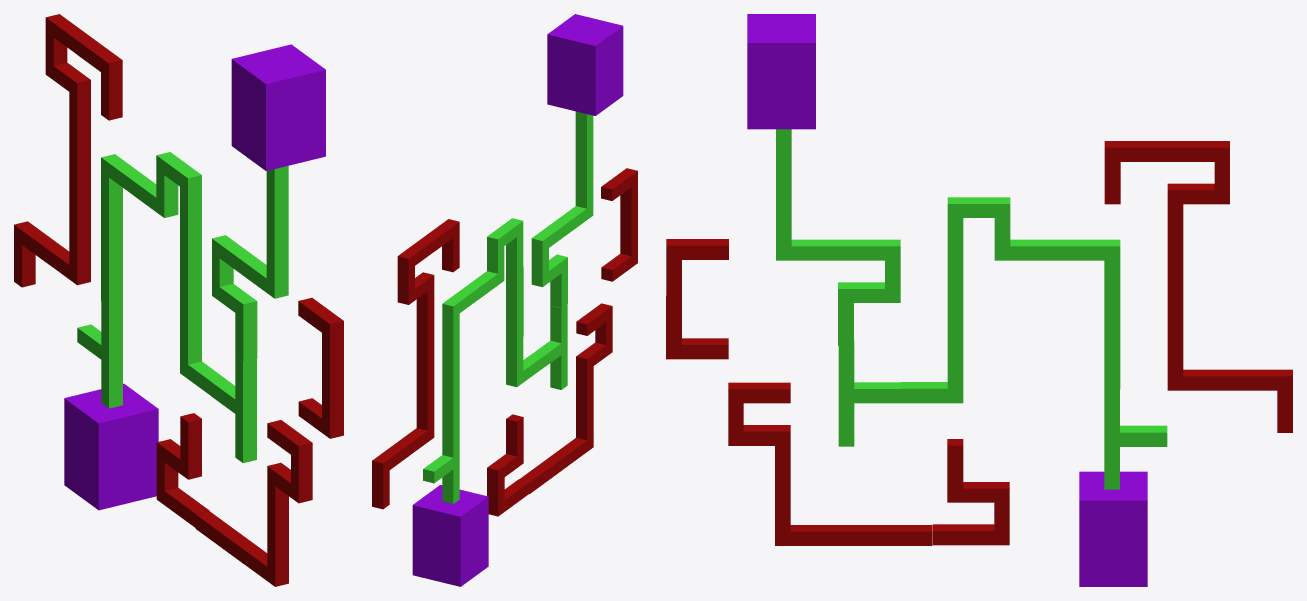
The model's file is puzzel 2 blockout.fbx.
3 renders of one model, left to right at view 1: azimuth 30°, elevation 25°; view 2: azimuth 150°, elevation 25°; view 3: azimuth 270°, elevation 25°, orthographic. The views are drawn at different scales.
Visible parts, largest first — view 1: beginpunt, eindpunt, buis_zigzag_F_3, buis_zigzag_G_2, buis_zigzag_F_1, buis_zigzag_G, buis_zigzag_F_4, buis_Tpunt_G_2, buis_Tpunt_G, buis_hoek_F_1, buis_hoek_F_4, buis_recht_G_3 (+11 smaller); view 2: beginpunt, eindpunt, buis_zigzag_F_3, buis_zigzag_F_1, buis_zigzag_F_4, buis_zigzag_G, buis_zigzag_G_2, buis_Tpunt_G_2, buis_Tpunt_G, buis_hoek_G_3, buis_hoek_F_6, buis_recht_F_2 (+11 smaller); view 3: beginpunt, eindpunt, buis_zigzag_F_3, buis_zigzag_G_2, buis_zigzag_F_4, buis_zigzag_G, buis_zigzag_F_1, buis_Tpunt_G, buis_Tpunt_G_2, buis_hoek_G_3, buis_hoek_F_4, buis_hoek_F_6 (+11 smaller).
Boxes of the visible parts, left/top/right/bottom form: beginpunt: left=231, top=44, right=325, bottom=170; eindpunt: left=64, top=383, right=158, bottom=510; buis_zigzag_F_3: left=156, top=413, right=209, bottom=527; buis_zigzag_G_2: left=132, top=152, right=201, bottom=234; buis_zigzag_F_1: left=267, top=420, right=312, bottom=529; buis_zigzag_G: left=212, top=235, right=257, bottom=361; buis_zigzag_F_4: left=45, top=14, right=90, bottom=140; buis_Tpunt_G_2: left=77, top=302, right=122, bottom=408; buis_Tpunt_G: left=211, top=356, right=256, bottom=463; buis_hoek_F_1: left=298, top=297, right=343, bottom=381; buis_hoek_F_4: left=77, top=37, right=122, bottom=120; buis_recht_G_3: left=101, top=215, right=122, bottom=307; beginpunt: left=547, top=14, right=623, bottom=115; eindpunt: left=412, top=485, right=488, bottom=586; buis_zigzag_F_3: left=487, top=414, right=529, bottom=516; buis_zigzag_F_1: left=576, top=303, right=612, bottom=405; buis_zigzag_F_4: left=397, top=238, right=434, bottom=325; buis_zigzag_G: left=531, top=220, right=567, bottom=307; buis_zigzag_G_2: left=468, top=218, right=523, bottom=299; buis_Tpunt_G_2: left=423, top=418, right=459, bottom=503; buis_Tpunt_G: left=532, top=304, right=567, bottom=389; buis_hoek_G_3: left=442, top=285, right=478, bottom=352; buis_hoek_F_6: left=372, top=442, right=408, bottom=509; buis_recht_F_2: left=416, top=321, right=434, bottom=395; beginpunt: left=747, top=14, right=815, bottom=129; eindpunt: left=1079, top=471, right=1147, bottom=586; buis_zigzag_F_3: left=932, top=439, right=1009, bottom=545; buis_zigzag_G_2: left=947, top=197, right=1057, bottom=260; buis_zigzag_F_4: left=1167, top=141, right=1229, bottom=247; buis_zigzag_G: left=838, top=239, right=900, bottom=345; buis_zigzag_F_1: left=728, top=382, right=790, bottom=488; buis_Tpunt_G: left=838, top=339, right=900, bottom=446; buis_Tpunt_G_2: left=1104, top=389, right=1167, bottom=489; buis_hoek_G_3: left=1057, top=239, right=1120, bottom=303; buis_hoek_F_4: left=1104, top=141, right=1167, bottom=204; buis_hoek_F_6: left=1230, top=369, right=1292, bottom=432.
Bounding box in the file's own units: 43.27 × 379 × 396.
